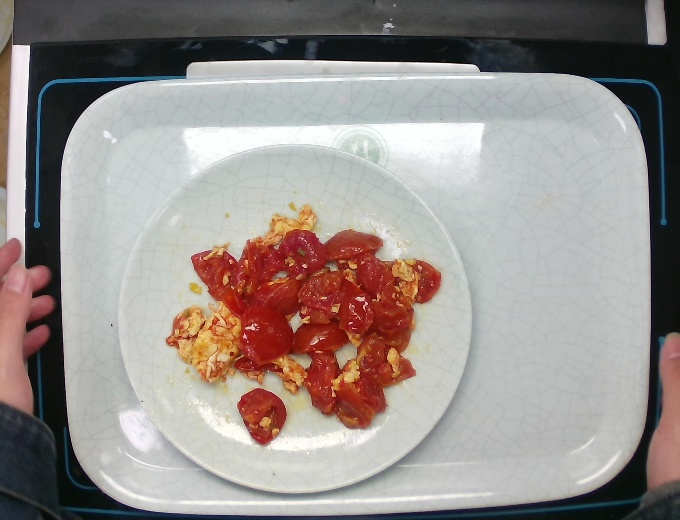JYsf-Da_Yuan_Pan: (113, 139, 476, 496)
